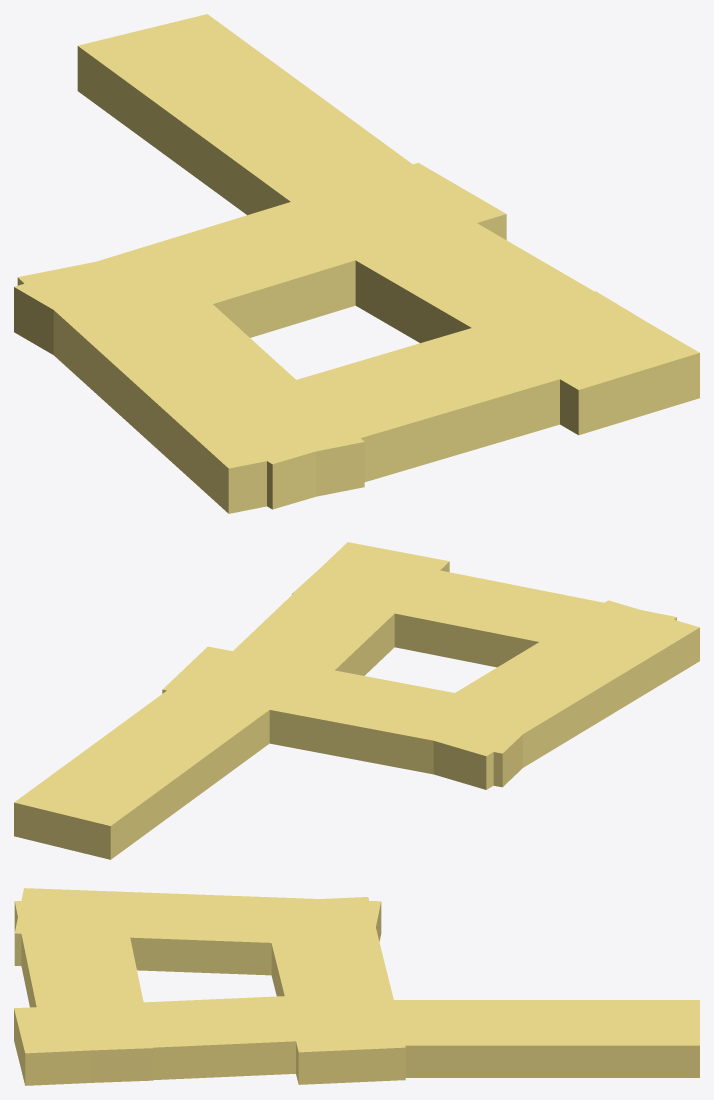
Rendered from Gold_Key.glb.
3 renders of one model, top to bottom at view 1: azimuth 30°, elevation 25°; view 2: azimuth 150°, elevation 25°; view 3: azimuth 270°, elevation 25°, orthographic. The views are drawn at different scales.
Parts seen in each view (by area): view 1: Cube copy (×2), Cube, Cube copy copy copy, Cube copy copy; view 2: Cube copy (×2), Cube copy copy copy, Cube, Cube copy copy; view 3: Cube copy (×2), Cube copy copy copy, Cube, Cube copy copy.
Part boxes in pixels (x1,y1,x2,y2): Cube copy (×2): (14, 162, 699, 435); Cube: (17, 257, 364, 513); Cube copy copy copy: (77, 14, 456, 228); Cube copy copy: (187, 291, 635, 509); Cube copy (×2): (162, 542, 522, 787); Cube copy copy copy: (14, 666, 296, 859); Cube: (395, 600, 699, 789); Cube copy copy: (292, 550, 676, 667); Cube copy (×2): (14, 897, 405, 1085); Cube copy copy copy: (341, 1000, 699, 1077); Cube: (14, 888, 381, 975); Cube copy copy: (14, 897, 152, 1082).
Bounding box in the file's own units: 0.5452 × 0.05 × 0.9565.
